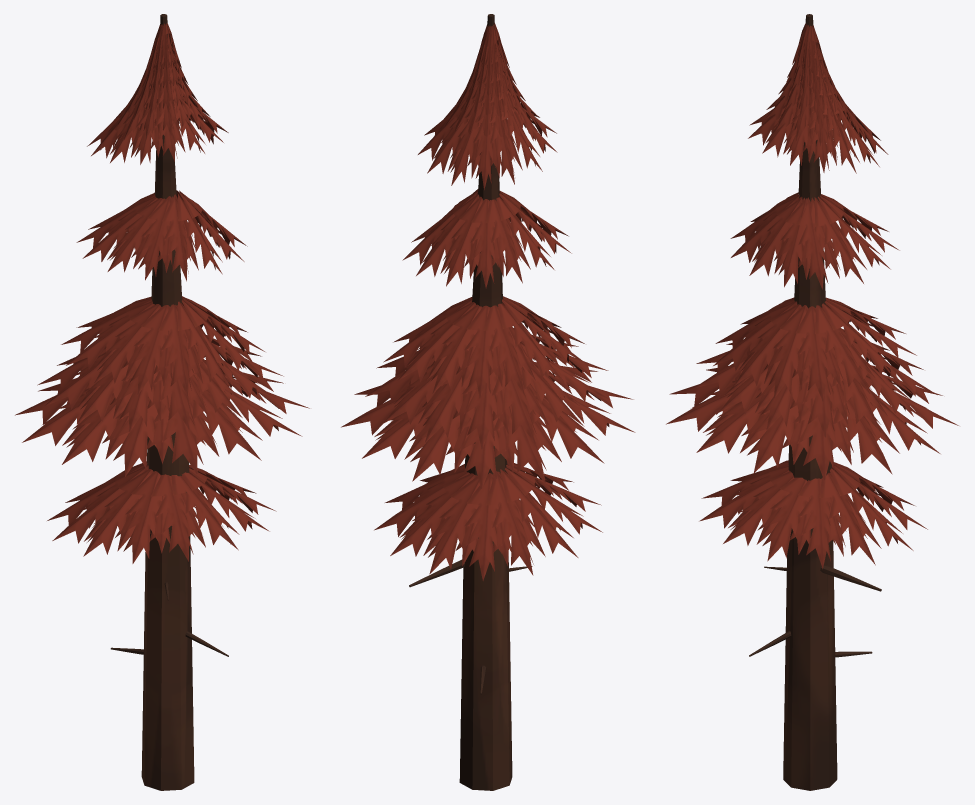
The model's file is Tree_002.fbx.
3 renders of one model, left to right at view 1: azimuth 30°, elevation 25°; view 2: azimuth 150°, elevation 25°; view 3: azimuth 270°, elevation 25°, orthographic.
Parts seen in each view (by area): view 1: Tree_002_Pine_001; view 2: Tree_002_Pine_001; view 3: Tree_002_Pine_001.
Part boxes in pixels (x1,y1,x2,y2): Tree_002_Pine_001: (15,14,309,790); Tree_002_Pine_001: (341,14,635,790); Tree_002_Pine_001: (666,14,958,790).
Size of the model in its own units: 1091 by 3097 by 1089.
